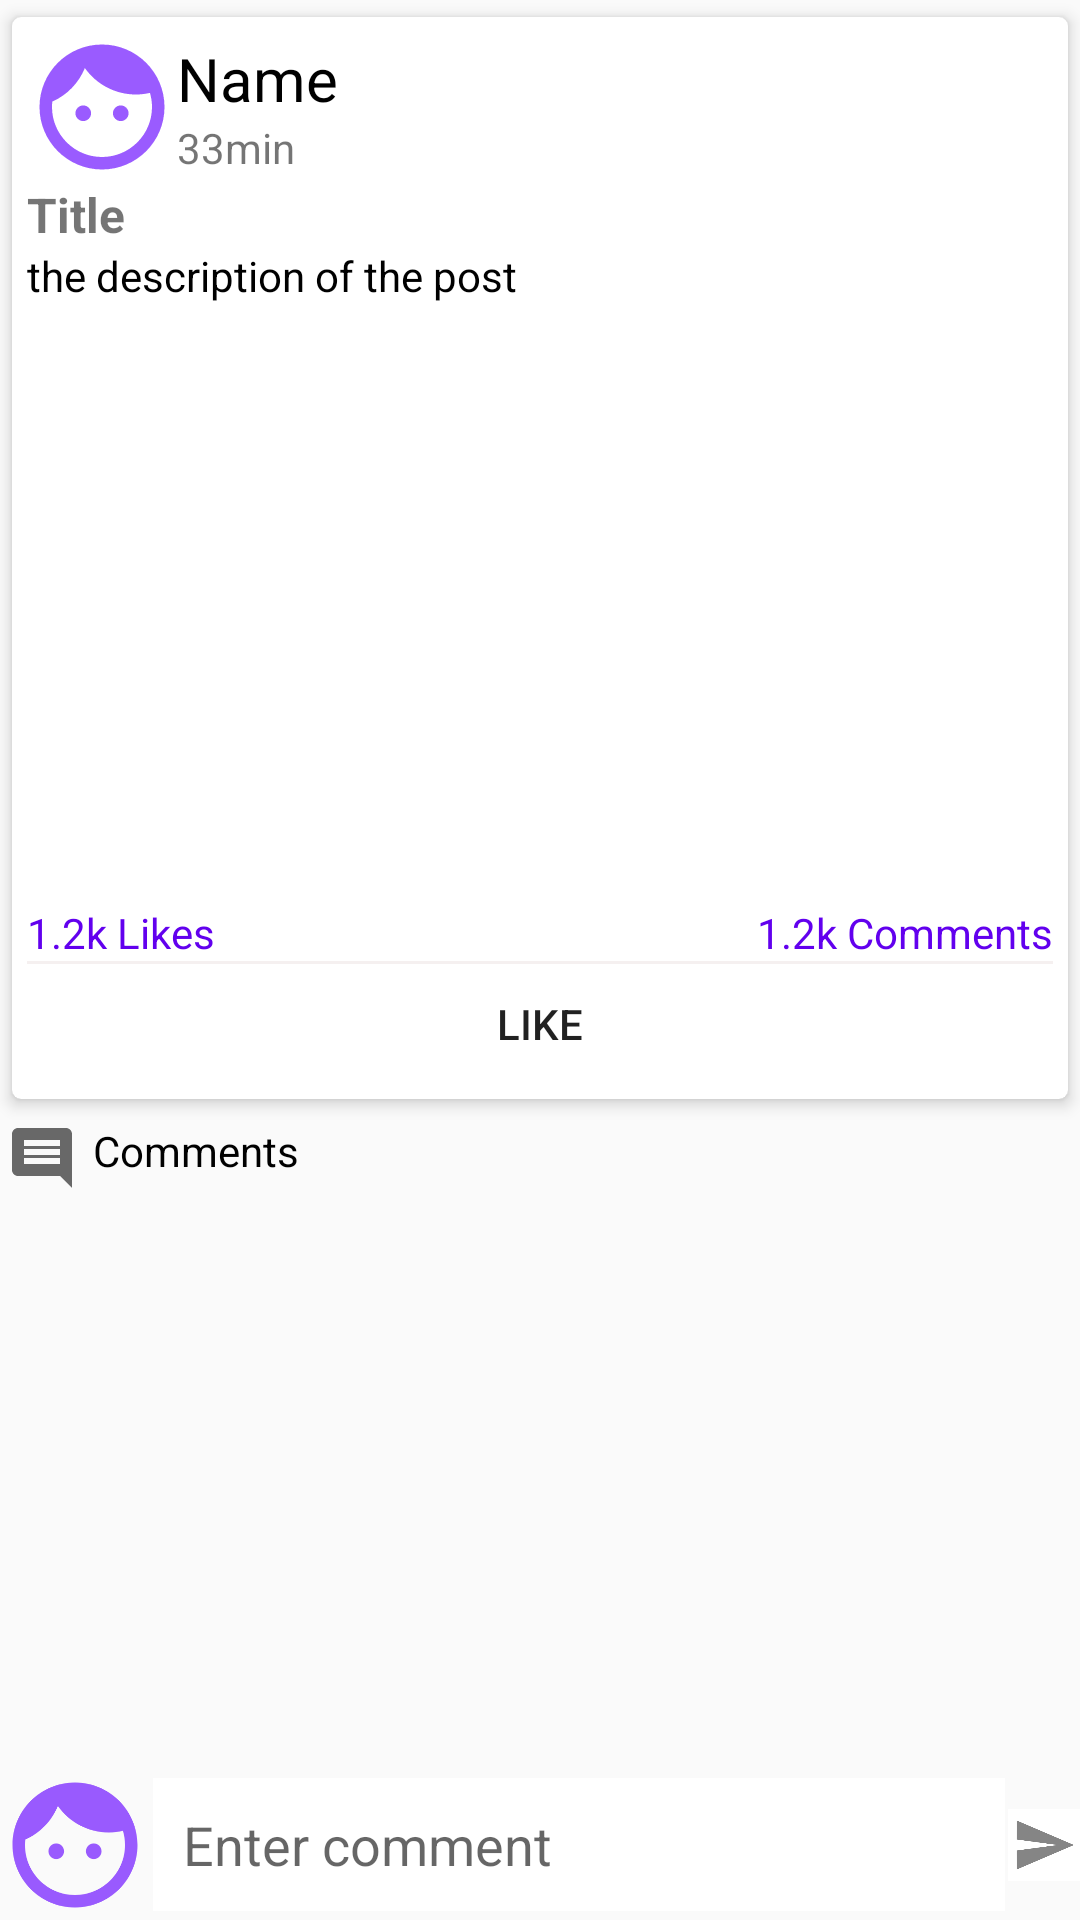

Screen size 1080*1920. Icon name, then its box in pixels as box=[x1, y1, x2, y2]:
send: box=[1017, 1821, 1073, 1869]
